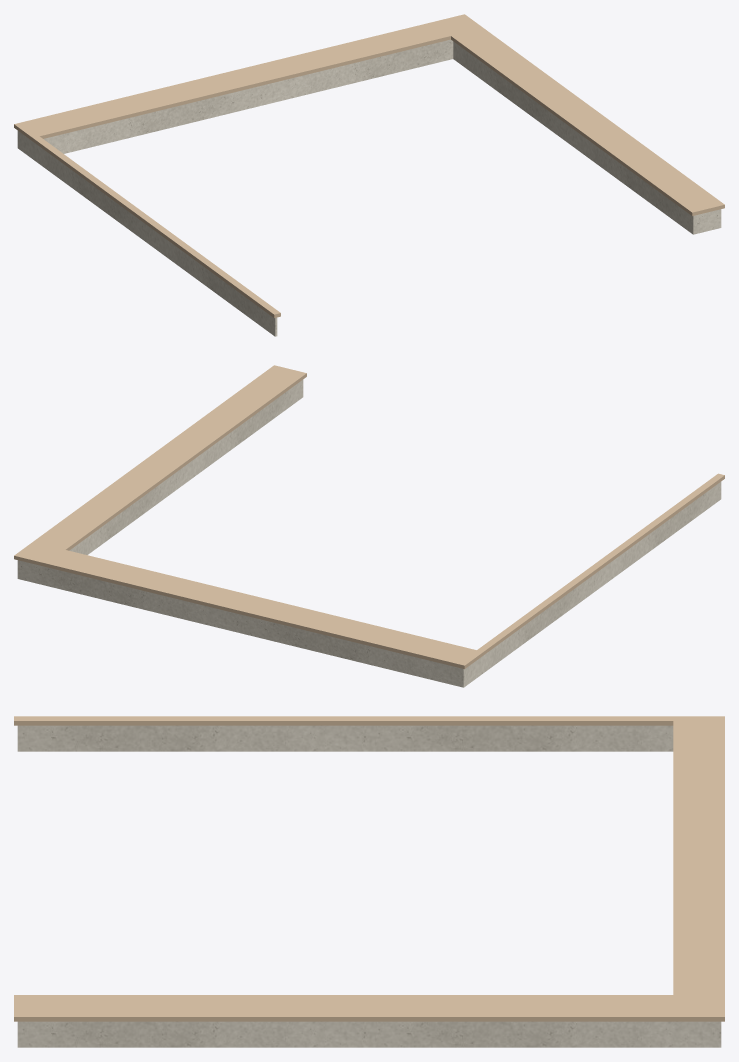
The model's file is stair_core_slab_192_168_29.glb.
3 views of the same model, one above another, from view 1: azimuth 30°, elevation 25°; view 2: azimuth 150°, elevation 25°; view 3: azimuth 270°, elevation 25° (orthographic). The views are drawn at different scales.
Parts seen in each view (by area): view 1: stair_core_slab_192_168_29_floor, stair_core_slab_192_168_29_plaster; view 2: stair_core_slab_192_168_29_floor, stair_core_slab_192_168_29_plaster; view 3: stair_core_slab_192_168_29_floor, stair_core_slab_192_168_29_plaster.
Part boxes in pixels (x1,y1,x2,y2): stair_core_slab_192_168_29_floor: (14, 14, 724, 318); stair_core_slab_192_168_29_plaster: (17, 39, 721, 336); stair_core_slab_192_168_29_floor: (14, 365, 724, 669); stair_core_slab_192_168_29_plaster: (17, 379, 721, 687); stair_core_slab_192_168_29_floor: (14, 716, 724, 1021); stair_core_slab_192_168_29_plaster: (17, 725, 721, 1047).
Size of the model in its own units: 4 by 0.2 by 4.
2 materials, 1 textured.
